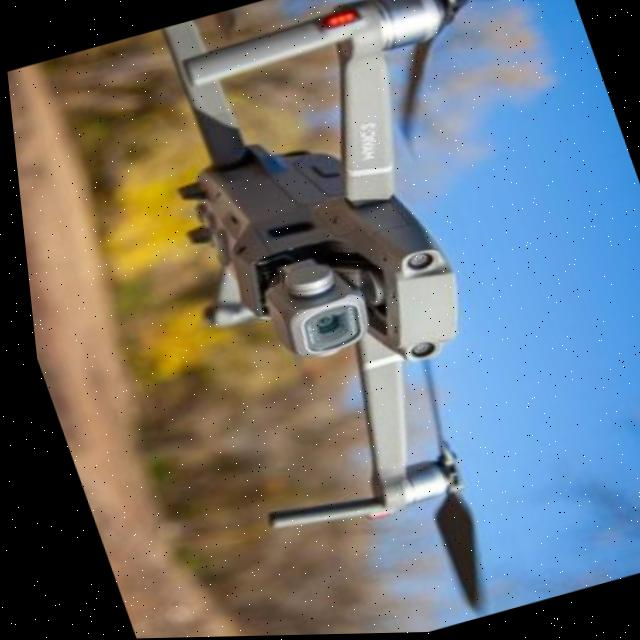drones: (63, 0, 639, 624)
